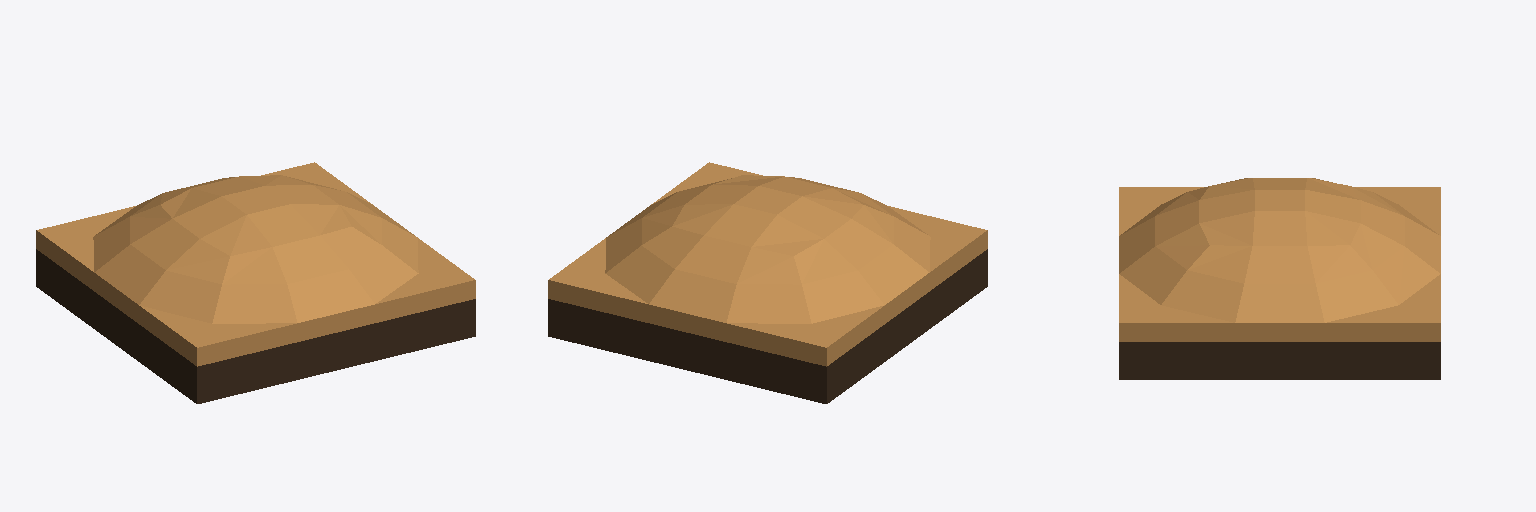
The model's file is tile-plain-hump_sand.obj.
The picture shows the model from 3 angles: view 1: azimuth 30°, elevation 25°; view 2: azimuth 150°, elevation 25°; view 3: azimuth 270°, elevation 25°; orthographic projection.
Parts seen in each view (by area): view 1: tile-plain-hump_sand_Golf_no_trex.006; view 2: tile-plain-hump_sand_Golf_no_trex.006; view 3: tile-plain-hump_sand_Golf_no_trex.006.
Boxes of the visible parts, x1,y1,x2,y2 form: tile-plain-hump_sand_Golf_no_trex.006: [36, 162, 475, 403]; tile-plain-hump_sand_Golf_no_trex.006: [548, 162, 987, 403]; tile-plain-hump_sand_Golf_no_trex.006: [1119, 178, 1440, 379].
Bounding box in the file's own units: 0.1109 × 0.0425 × 0.1109.